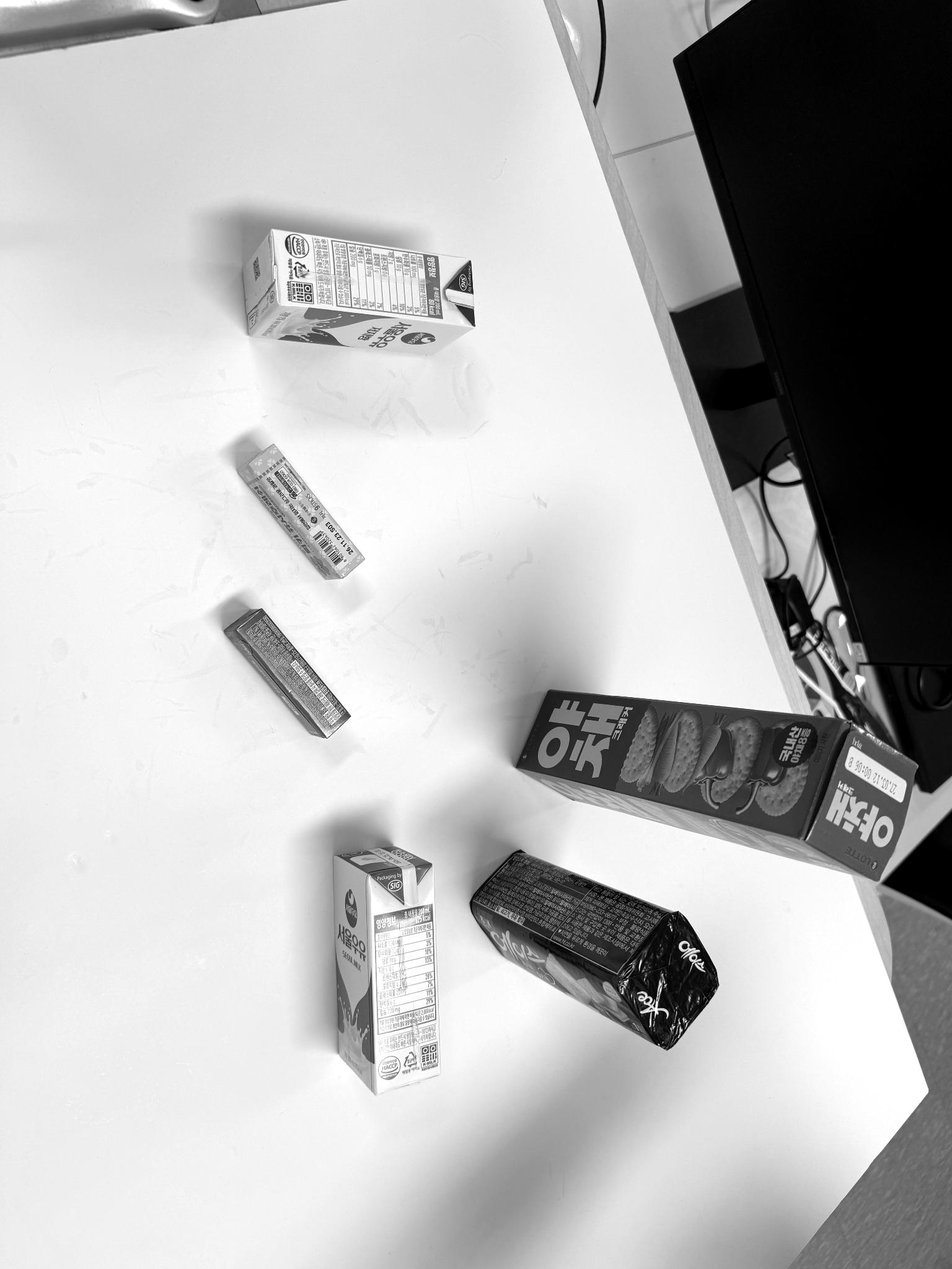cracker_ace: (471, 850, 718, 1051)
cracker_vege: (516, 690, 917, 882)
gum_green: (225, 609, 350, 737)
gum_yellow: (239, 445, 363, 579)
milk_blue: (244, 229, 475, 355)
milk_green: (333, 845, 440, 1095)
